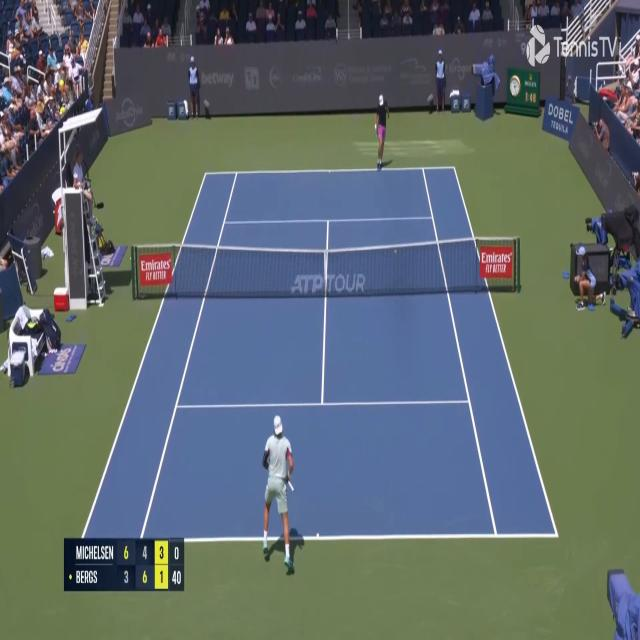tennis-player: (260, 412, 298, 575), (372, 92, 390, 172)
